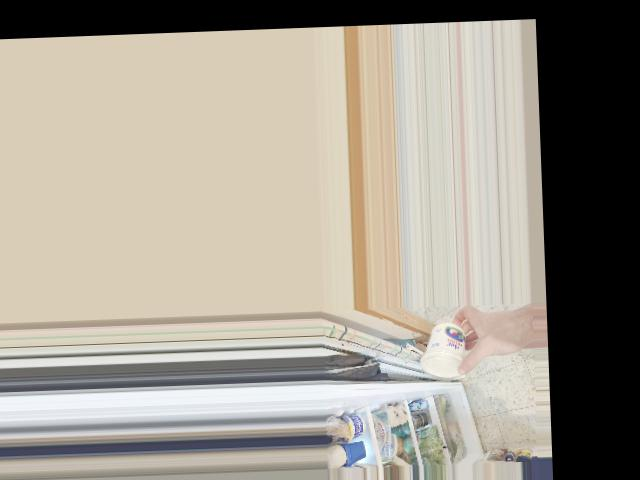cotage: (422, 321, 471, 377)
